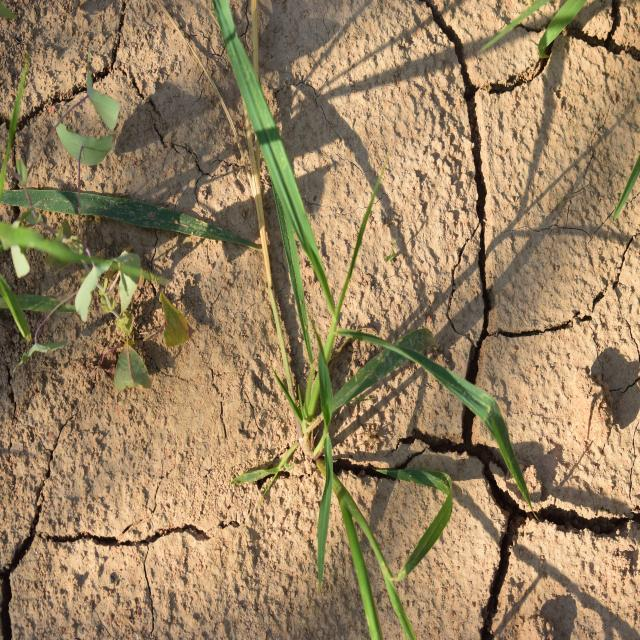green_foxtail: (229, 75, 473, 515)
